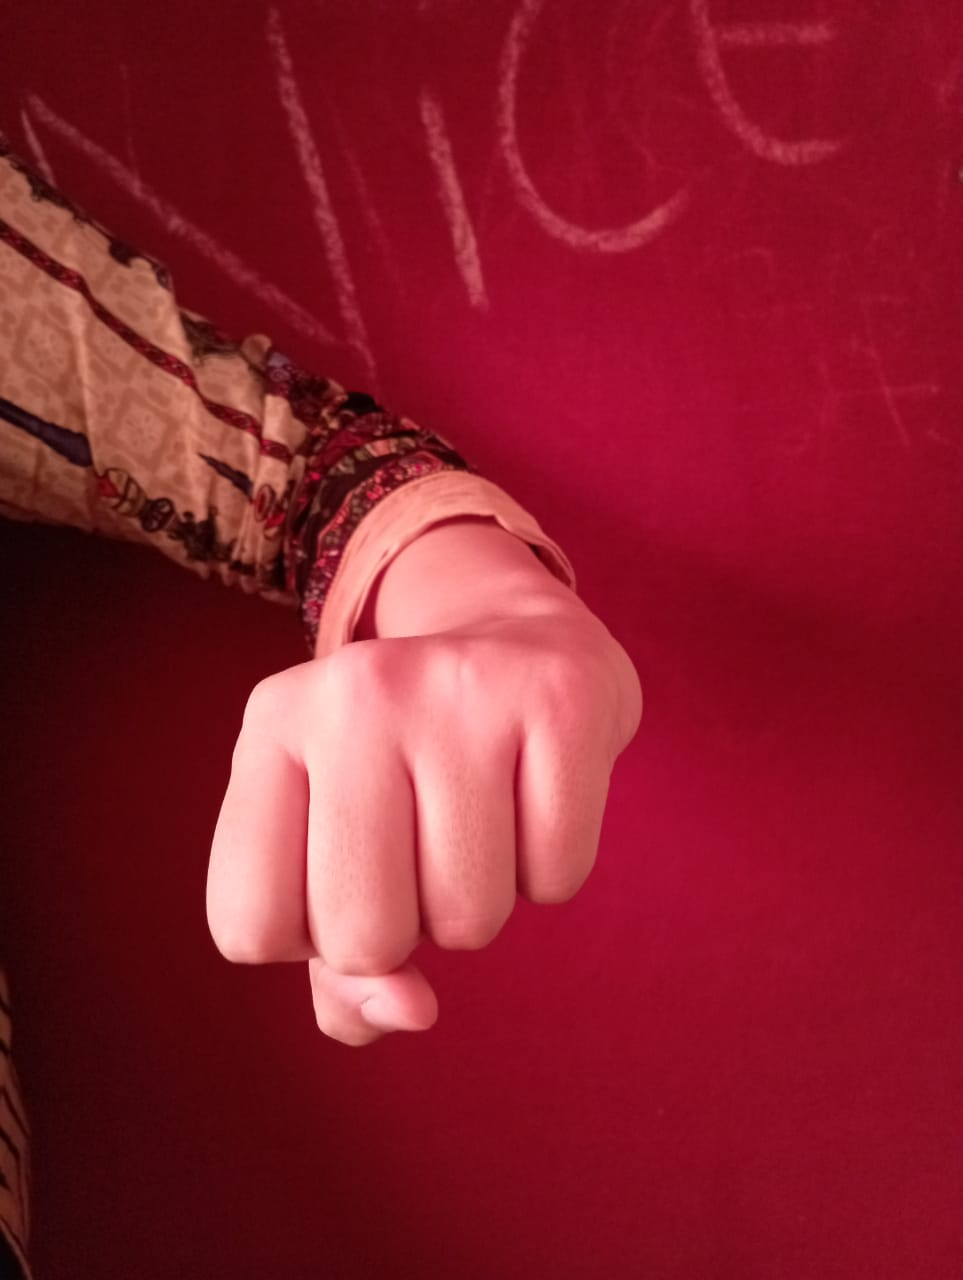BroCode: (168, 619, 646, 1078)
